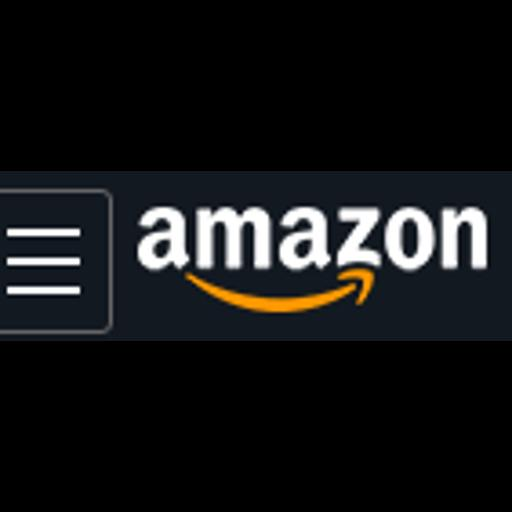Amazon: (0, 171, 512, 341)
